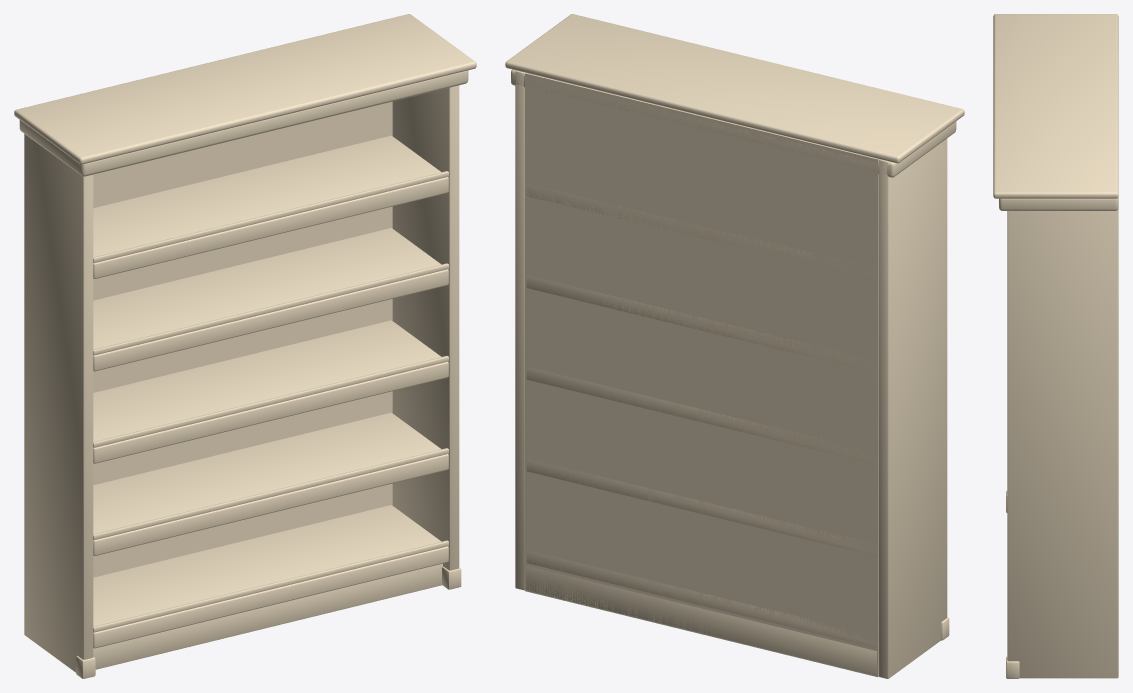
Rendered from shelf_5x145x40.glb.
3 views of the same model, side by side, from view 1: azimuth 30°, elevation 25°; view 2: azimuth 150°, elevation 25°; view 3: azimuth 270°, elevation 25° (orthographic). The views are drawn at different scales.
Visible parts, largest first — view 1: shelf_5x145x40; view 2: shelf_5x145x40; view 3: shelf_5x145x40.
Boxes of the visible parts, x1,y1,x2,y2 form: shelf_5x145x40: [14, 14, 476, 678]; shelf_5x145x40: [505, 14, 964, 678]; shelf_5x145x40: [993, 14, 1118, 678].
Bounding box in the file's own units: 1.53 × 1.95 × 0.45.
